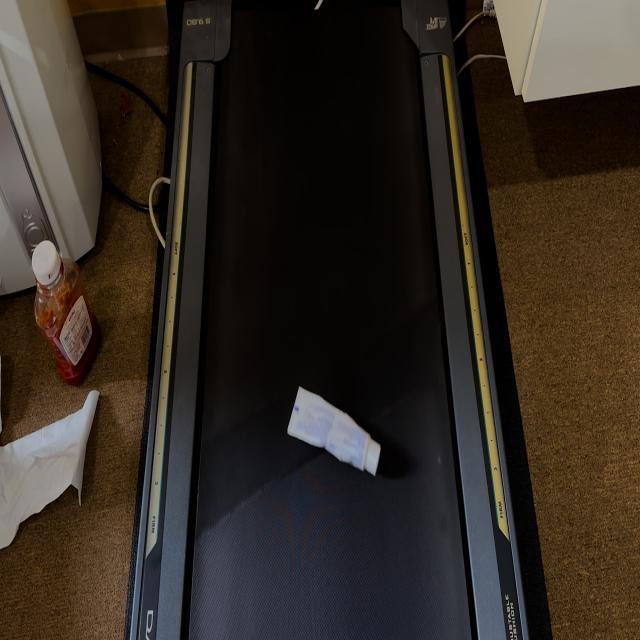Trash: (286, 384, 382, 482)
